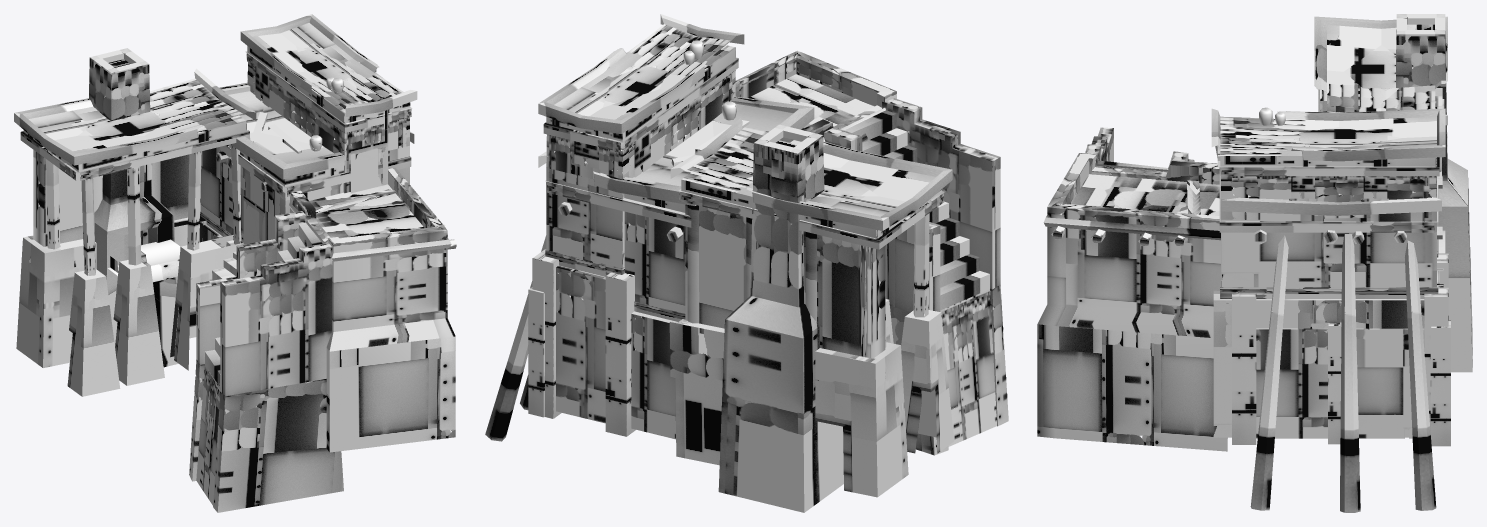
Rendered from forge.dae.
The picture shows the model from 3 angles, left to right: view 1: azimuth 30°, elevation 25°; view 2: azimuth 150°, elevation 25°; view 3: azimuth 270°, elevation 25°; orthographic projection. The views are drawn at different scales.
Parts seen in each view (by area): view 1: Cube_016; view 2: Cube_016; view 3: Cube_016.
Part boxes in pixels (bbox=[...]): Cube_016: bbox=[14, 14, 456, 512]; Cube_016: bbox=[485, 14, 1008, 512]; Cube_016: bbox=[1037, 14, 1472, 512].
Size of the model in its own units: 23.74 by 22.75 by 21.57.
